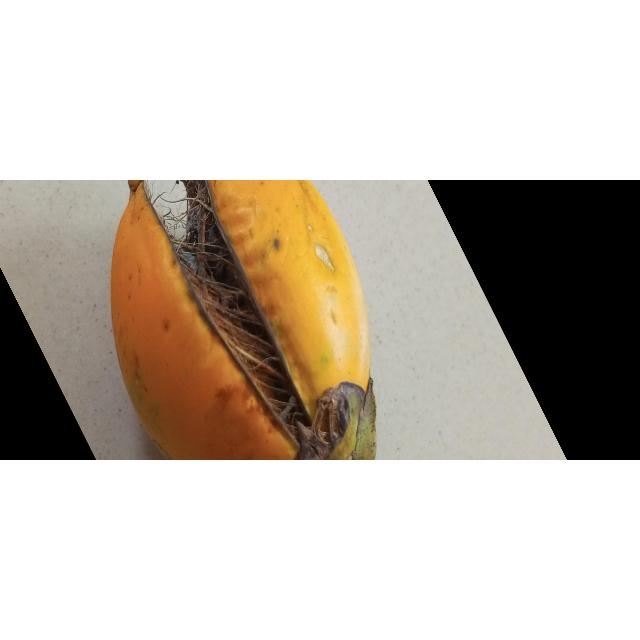damaged: (115, 180, 377, 461)
